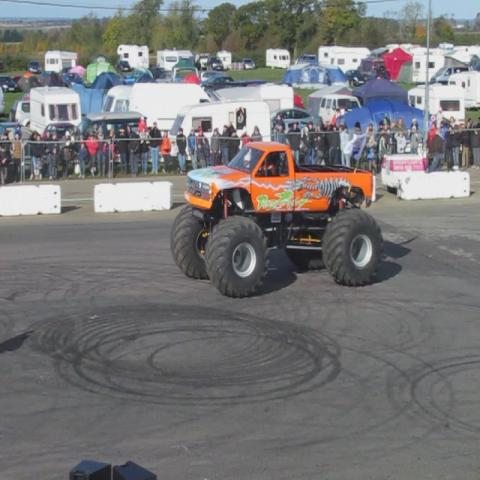car: (20, 51, 468, 92), (76, 111, 146, 133), (270, 108, 323, 131), (319, 95, 361, 124), (0, 122, 23, 167), (101, 84, 133, 113), (194, 71, 234, 90), (42, 123, 76, 141), (10, 100, 30, 128), (61, 72, 84, 87), (3, 78, 17, 91), (242, 58, 256, 70), (212, 59, 224, 71)
truck: (170, 140, 383, 296), (169, 100, 270, 156), (128, 81, 227, 136), (27, 86, 85, 141), (117, 44, 150, 72), (44, 51, 78, 74), (267, 48, 292, 70), (216, 50, 231, 70)
